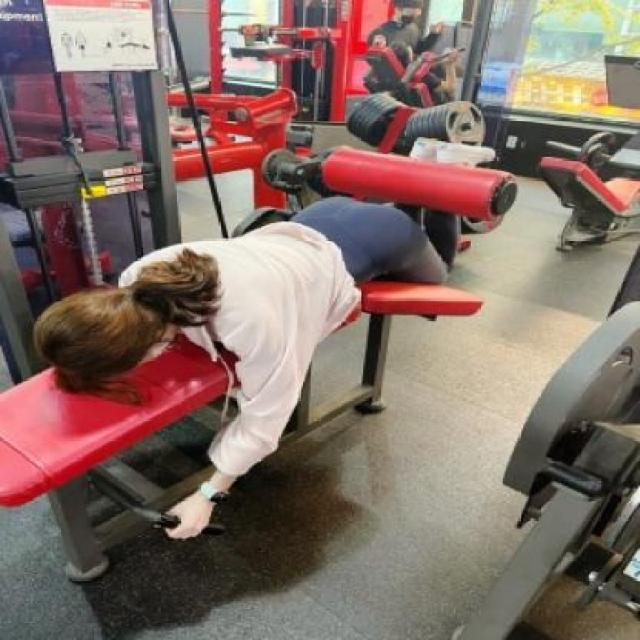reg curl machine: (0, 0, 522, 580)
